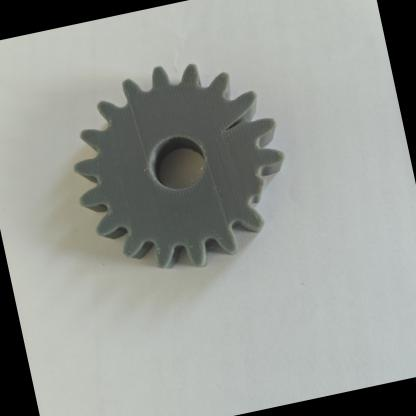defect: (191, 70, 296, 162), (226, 158, 296, 219)
gear: (44, 34, 322, 302)
